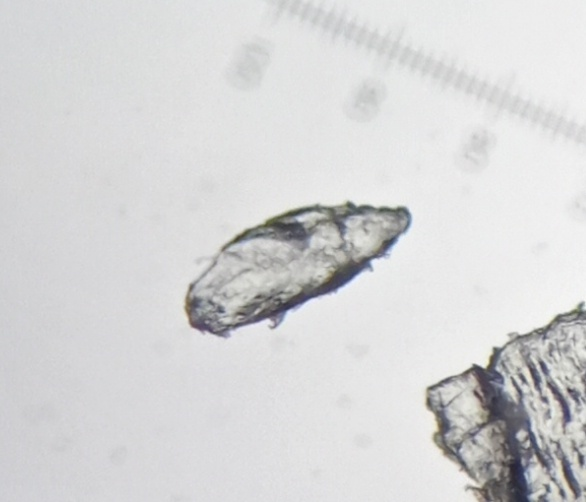microplastic: (168, 187, 423, 343), (429, 295, 586, 499)
